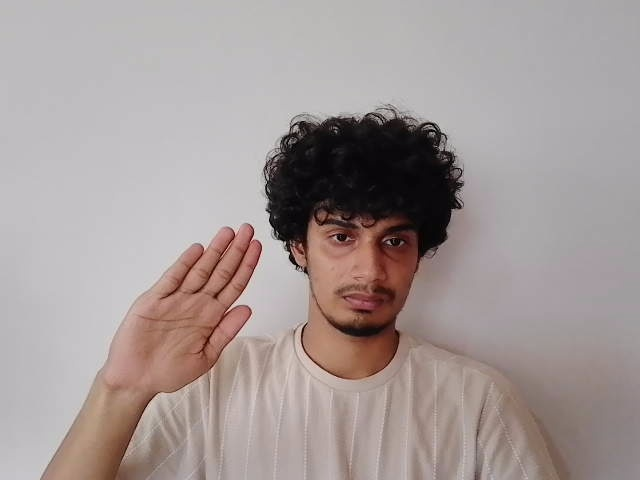hello: (104, 225, 265, 399)
